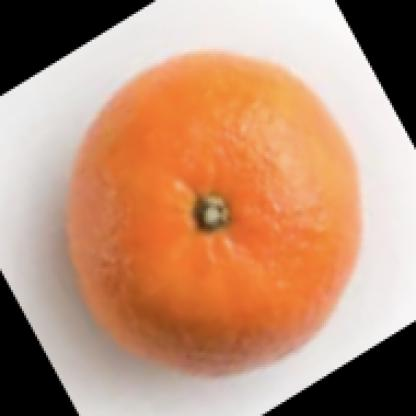orange: (56, 50, 367, 375)
